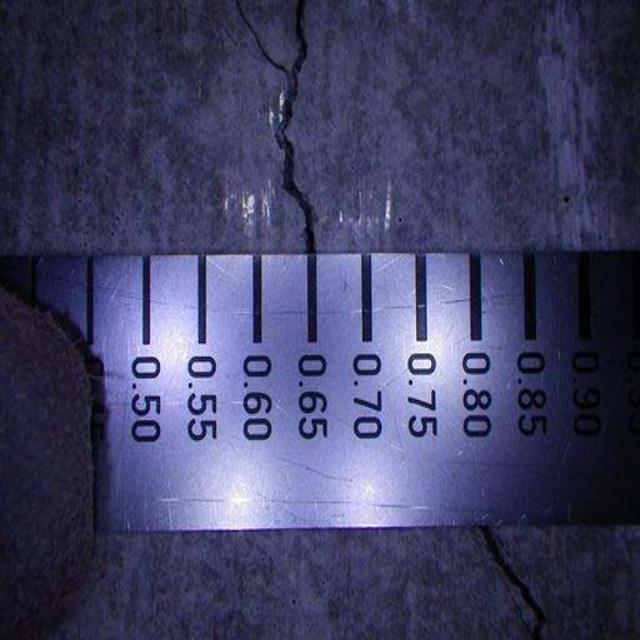crack: (266, 10, 348, 261), (463, 524, 557, 634)
